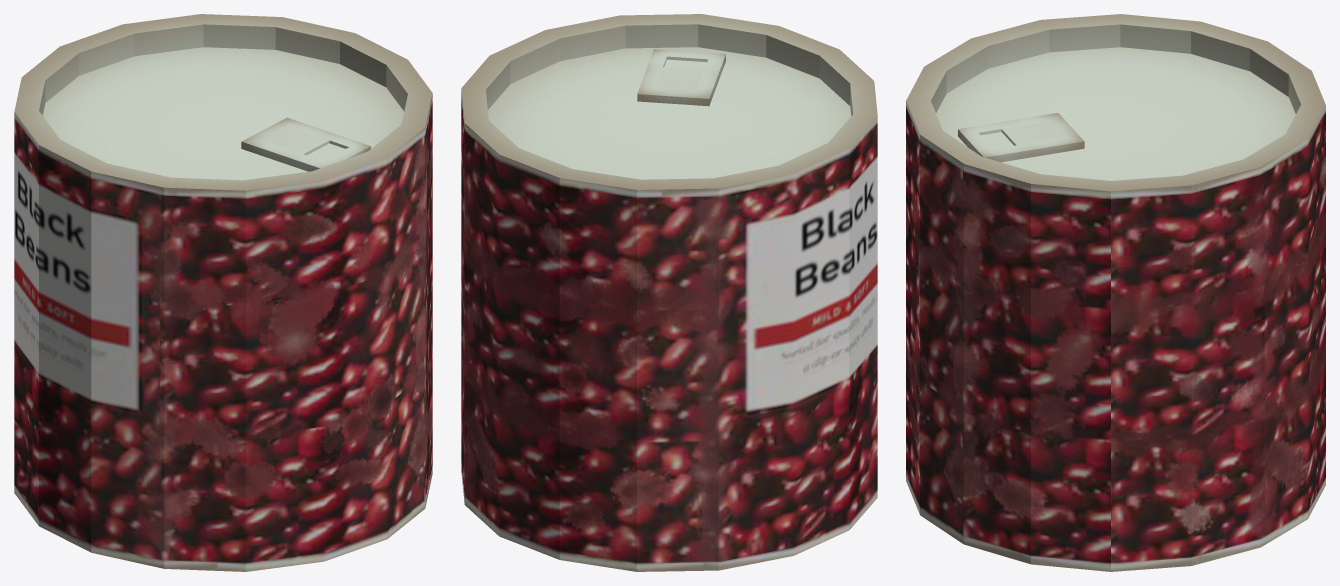
Rendered from blackbeans.fbx.
3 renders of one model, left to right at view 1: azimuth 30°, elevation 25°; view 2: azimuth 150°, elevation 25°; view 3: azimuth 270°, elevation 25°, orthographic.
Visible parts, largest first — view 1: Beans; view 2: Beans; view 3: Beans.
Part boxes in pixels (left/top/right/bottom): Beans: left=14, top=14, right=432, bottom=571; Beans: left=461, top=14, right=877, bottom=571; Beans: left=906, top=14, right=1325, bottom=571.
Size of the model in its own units: 32.15 by 32.16 by 32.15.
